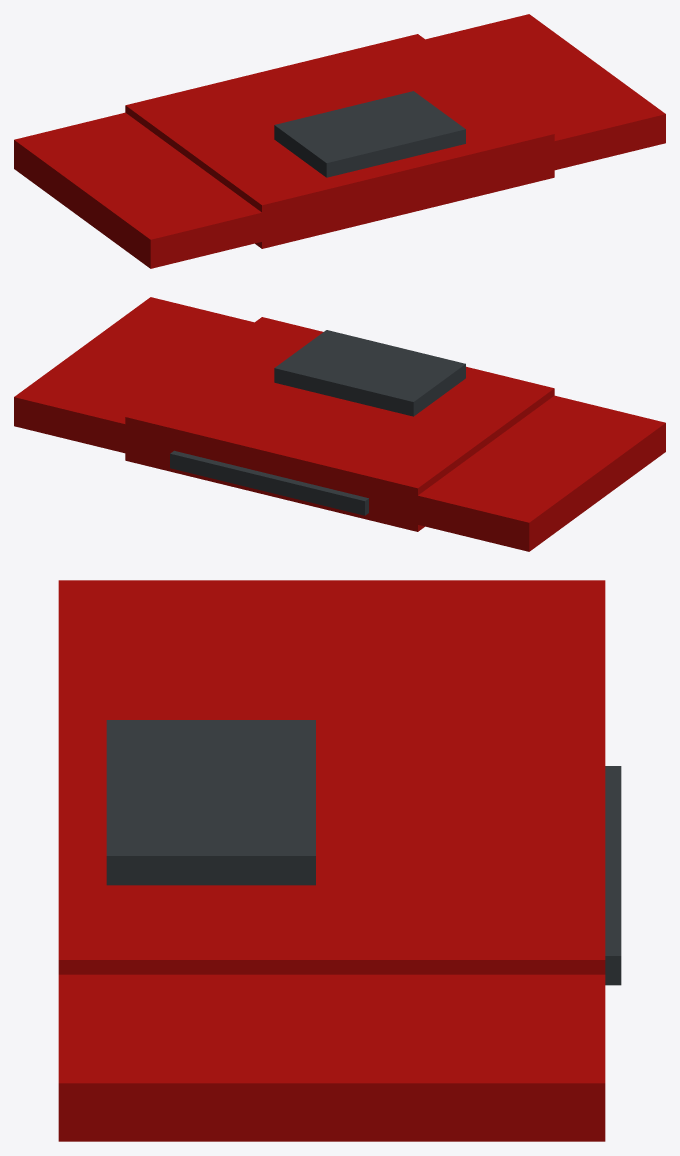
Rendered from hoodie.glb.
3 renders of one model, top to bottom at view 1: azimuth 30°, elevation 25°; view 2: azimuth 150°, elevation 25°; view 3: azimuth 270°, elevation 25°, orthographic. The views are drawn at different scales.
Parts seen in each view (by area): view 1: hoodie:folded-garment; view 2: hoodie:folded-garment; view 3: hoodie:folded-garment.
Boxes of the visible parts, left/top/right/bottom form: hoodie:folded-garment: left=14, top=14, right=665, bottom=268; hoodie:folded-garment: left=14, top=297, right=665, bottom=551; hoodie:folded-garment: left=58, top=580, right=621, bottom=1141.
Size of the model in its own units: 0.74 by 0.08 by 0.35.
